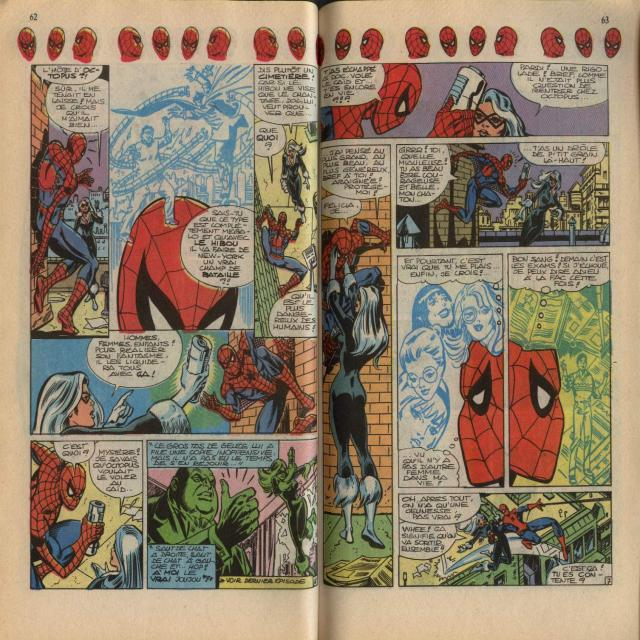comic_panel: (108, 63, 255, 332), (320, 143, 395, 590), (29, 331, 321, 437), (145, 438, 321, 593), (395, 252, 506, 490), (506, 249, 612, 488), (395, 141, 612, 252), (322, 62, 612, 144), (29, 62, 112, 339), (397, 491, 616, 588), (253, 62, 320, 339), (29, 438, 145, 591)
